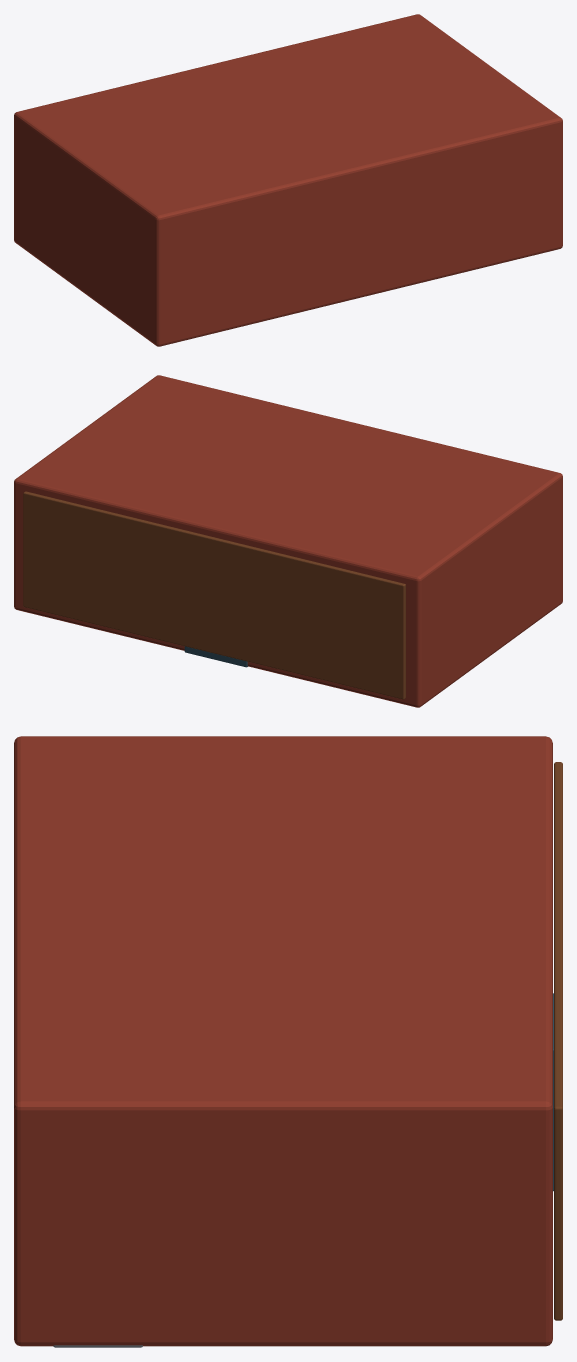
The model's file is BHC_REST_63RD_CHOPHOUSE.glb.
3 renders of one model, top to bottom at view 1: azimuth 30°, elevation 25°; view 2: azimuth 150°, elevation 25°; view 3: azimuth 270°, elevation 25°, orthographic. The views are drawn at different scales.
Parts seen in each view (by area): view 1: SM_BHC_REST_63RD_Exterior; view 2: SM_BHC_REST_63RD_Exterior, SM_BHC_REST_63RD_FacadeTrim, SM_BHC_REST_63RD_Entrance; view 3: SM_BHC_REST_63RD_Exterior, SM_BHC_REST_63RD_FacadeTrim.
Boxes of the visible parts, bbox=[...] form: SM_BHC_REST_63RD_Exterior: bbox=[14, 14, 562, 346]; SM_BHC_REST_63RD_Exterior: bbox=[14, 375, 562, 707]; SM_BHC_REST_63RD_FacadeTrim: bbox=[23, 491, 405, 699]; SM_BHC_REST_63RD_Entrance: bbox=[184, 646, 247, 667]; SM_BHC_REST_63RD_Exterior: bbox=[14, 736, 552, 1346]; SM_BHC_REST_63RD_FacadeTrim: bbox=[554, 762, 562, 1320].
Size of the model in its own units: 15.6 by 4.8 by 9.78.
